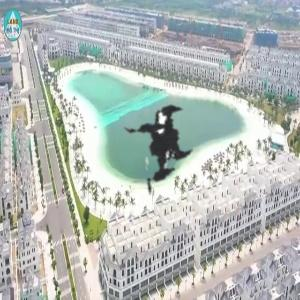drone: (35, 5, 293, 263)
